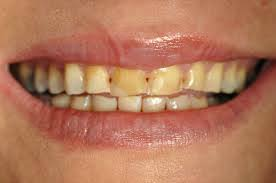normal: (64, 64, 83, 94), (207, 62, 223, 92), (46, 67, 64, 93), (142, 95, 165, 112), (117, 95, 141, 111), (91, 95, 116, 110), (223, 65, 235, 93), (165, 96, 190, 109), (70, 94, 90, 109), (35, 67, 47, 91), (235, 67, 245, 92), (51, 94, 70, 107)
yellow: (111, 66, 147, 95), (149, 69, 182, 94), (84, 65, 109, 94), (184, 62, 205, 91), (19, 63, 33, 85), (189, 91, 207, 107)
